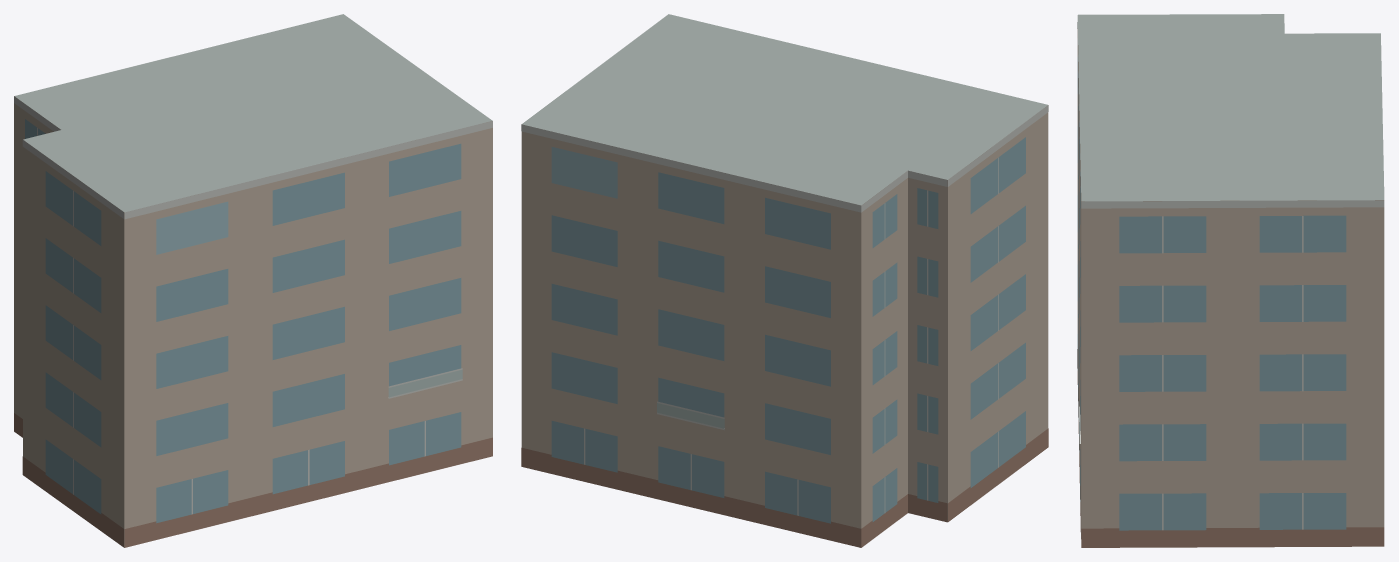
The model's file is survey-upis-32613003.glb.
3 views of the same model, side by side, from view 1: azimuth 30°, elevation 25°; view 2: azimuth 150°, elevation 25°; view 3: azimuth 270°, elevation 25° (orthographic). The views are drawn at different scales.
Visible parts, largest first — view 1: survey-upis-32613003.tmp; view 2: survey-upis-32613003.tmp; view 3: survey-upis-32613003.tmp.
Part boxes in pixels (x1=…): survey-upis-32613003.tmp: x1=14, y1=14, x2=492, y2=547; survey-upis-32613003.tmp: x1=521, y1=14, x2=1048, y2=547; survey-upis-32613003.tmp: x1=1077, y1=14, x2=1384, y2=547.
Size of the model in its own units: 13.57 by 11.69 by 9.4.
